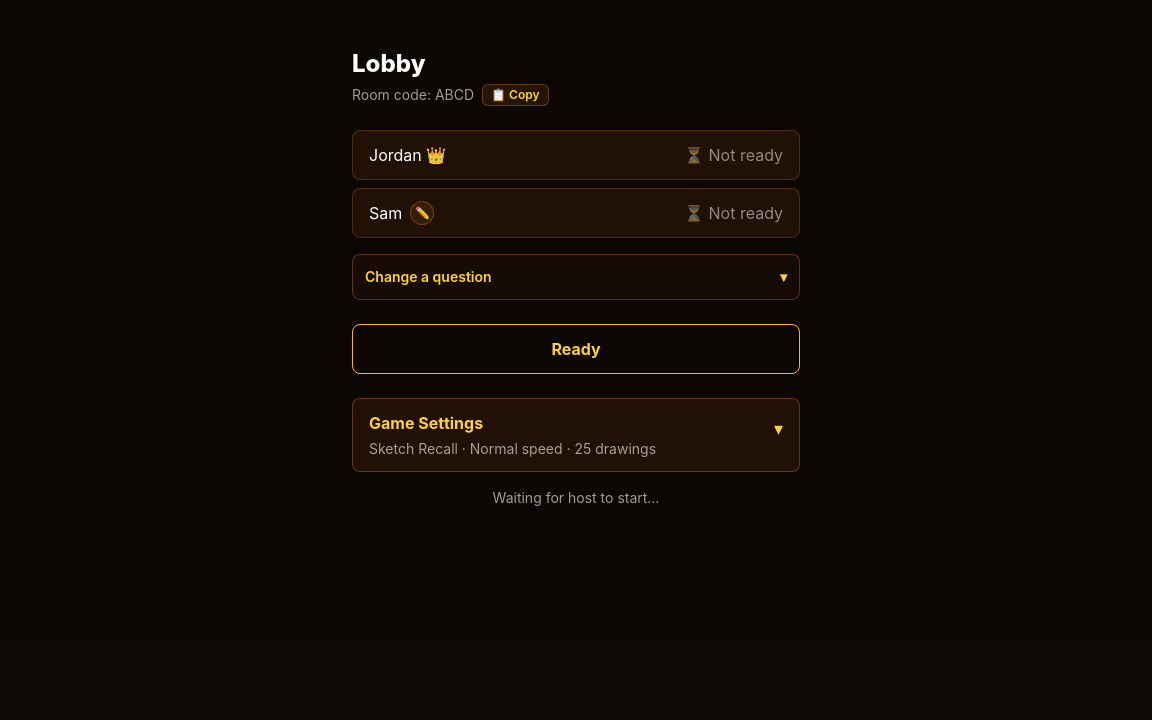
Test: LobbyScreen personal question editing › lets a player choose which submitted question to replace
Click the button "Change a question ▾": (428, 276) [365,267,787,287]
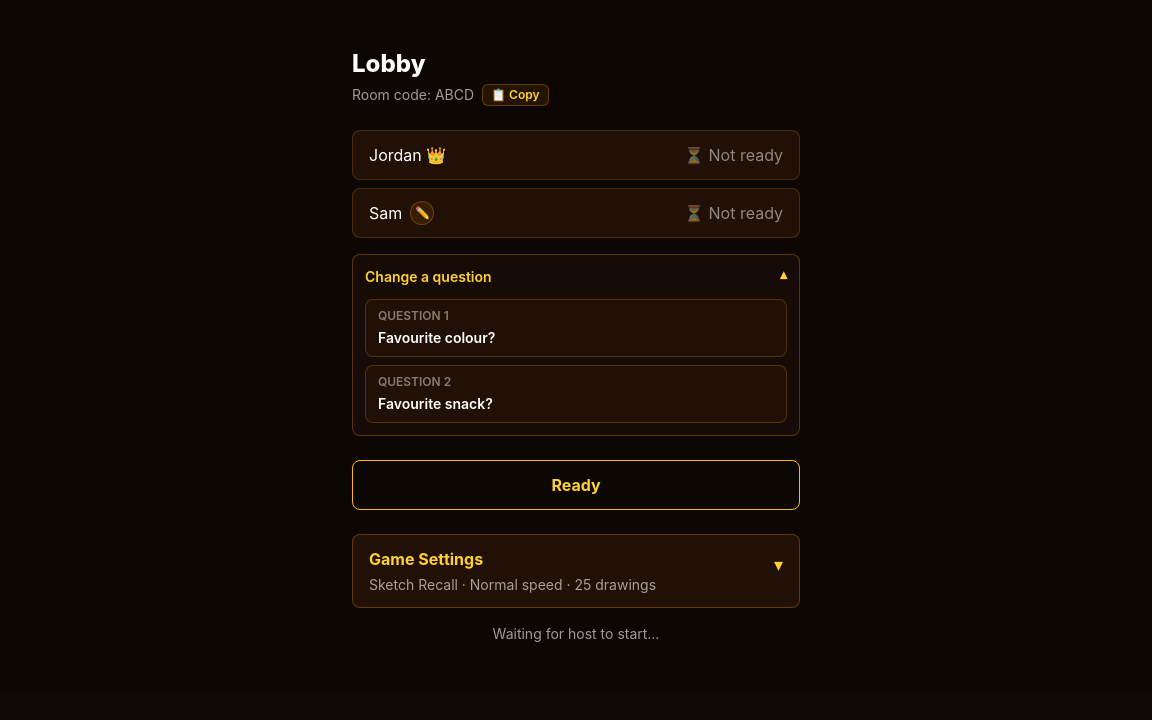
Click the button named "question 2favourite snack": (411, 382) [365,365,787,423]
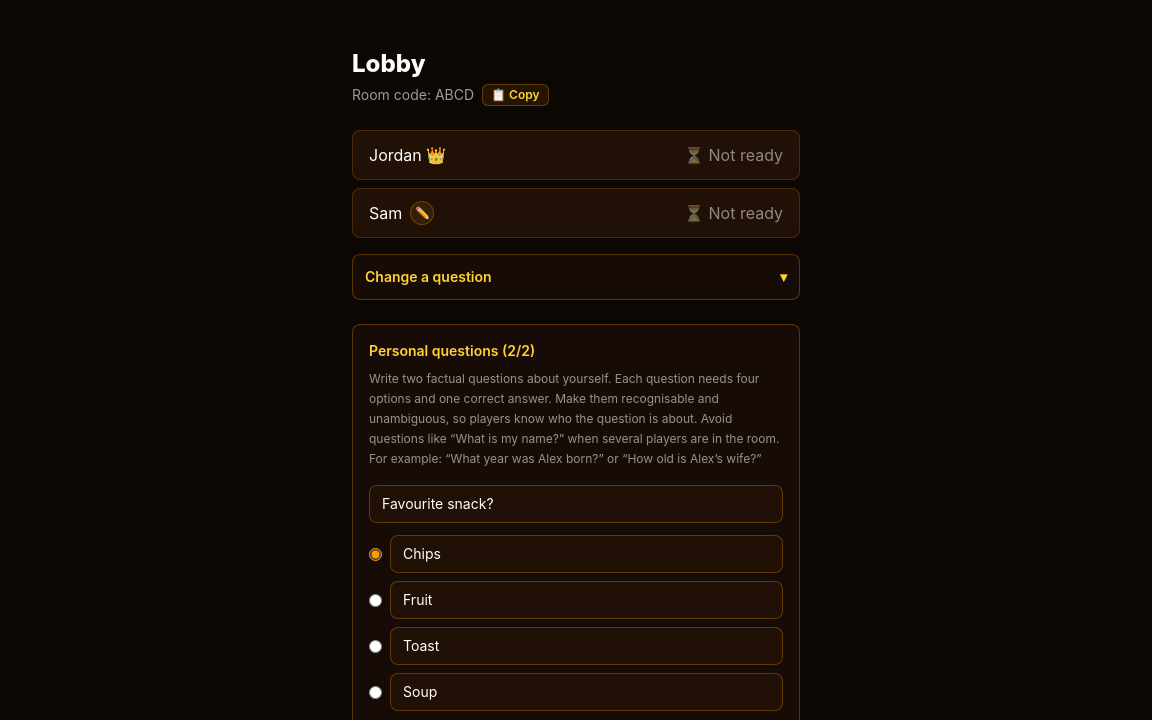
Expected: the 1st field with placeholder "Question about you" holds "Favourite snack?", [369,485,783,523]
Expected: the 2nd field with placeholder "Option 1" holds "Chips", [390,535,783,573]
